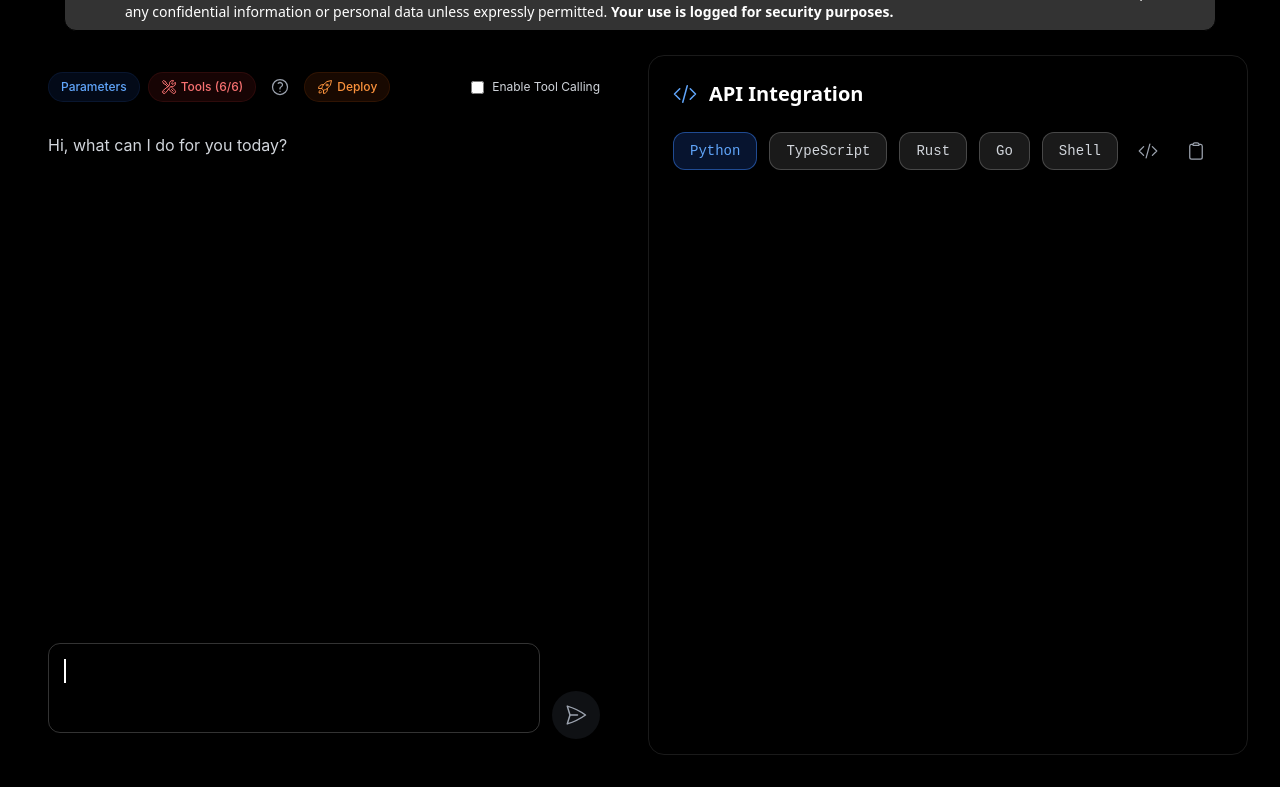
ModelDetail Component › Chat Interface › should display received messages in chat
This screenshot has width=1280, height=787.
(page scrolled)
In the field: x=294, y=688 [48, 643, 540, 733], type "Hello"
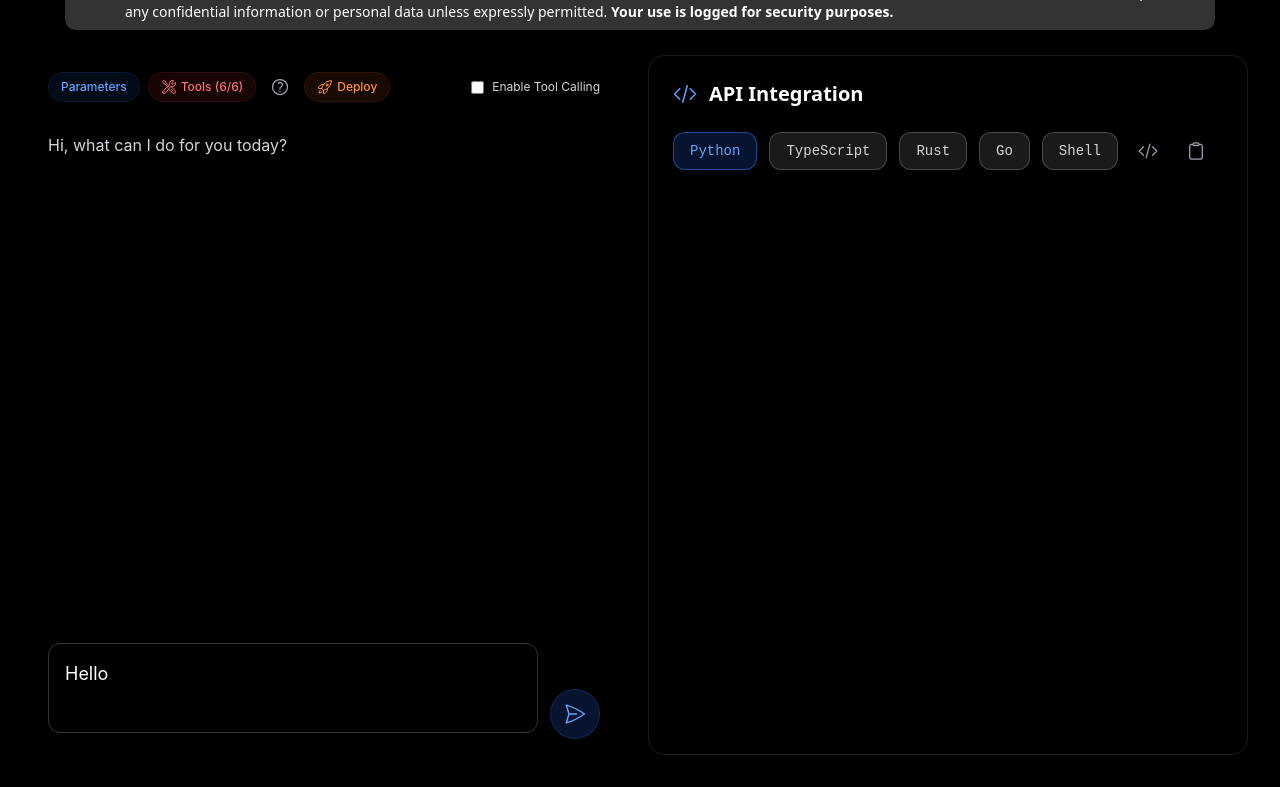
Click the button named "send": x=575, y=714 [550, 689, 600, 739]
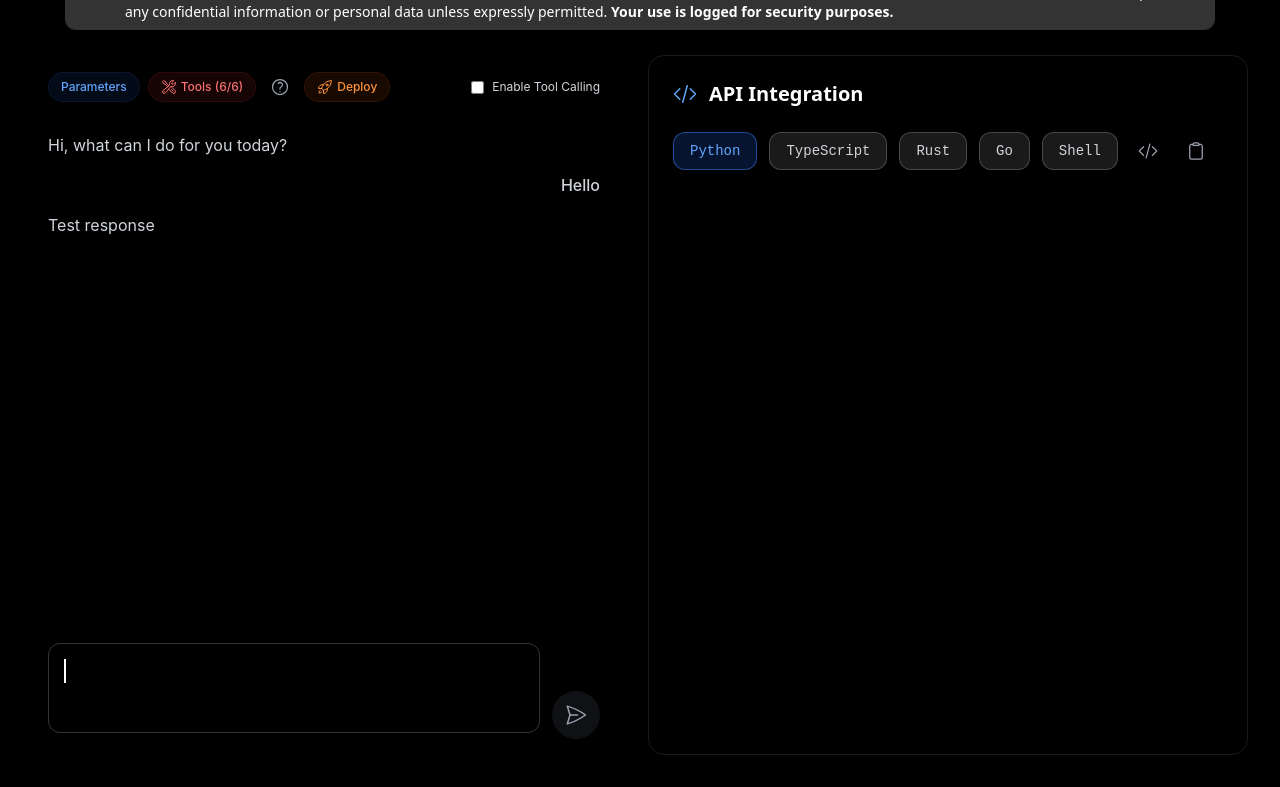
Now the text "Hello" is shown, box [561, 171, 600, 199]
Now the text "Test response" is shown, box [48, 211, 155, 239]
